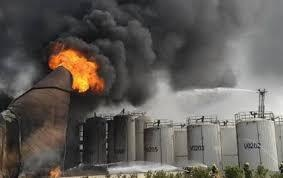fire: (46, 45, 106, 91)
